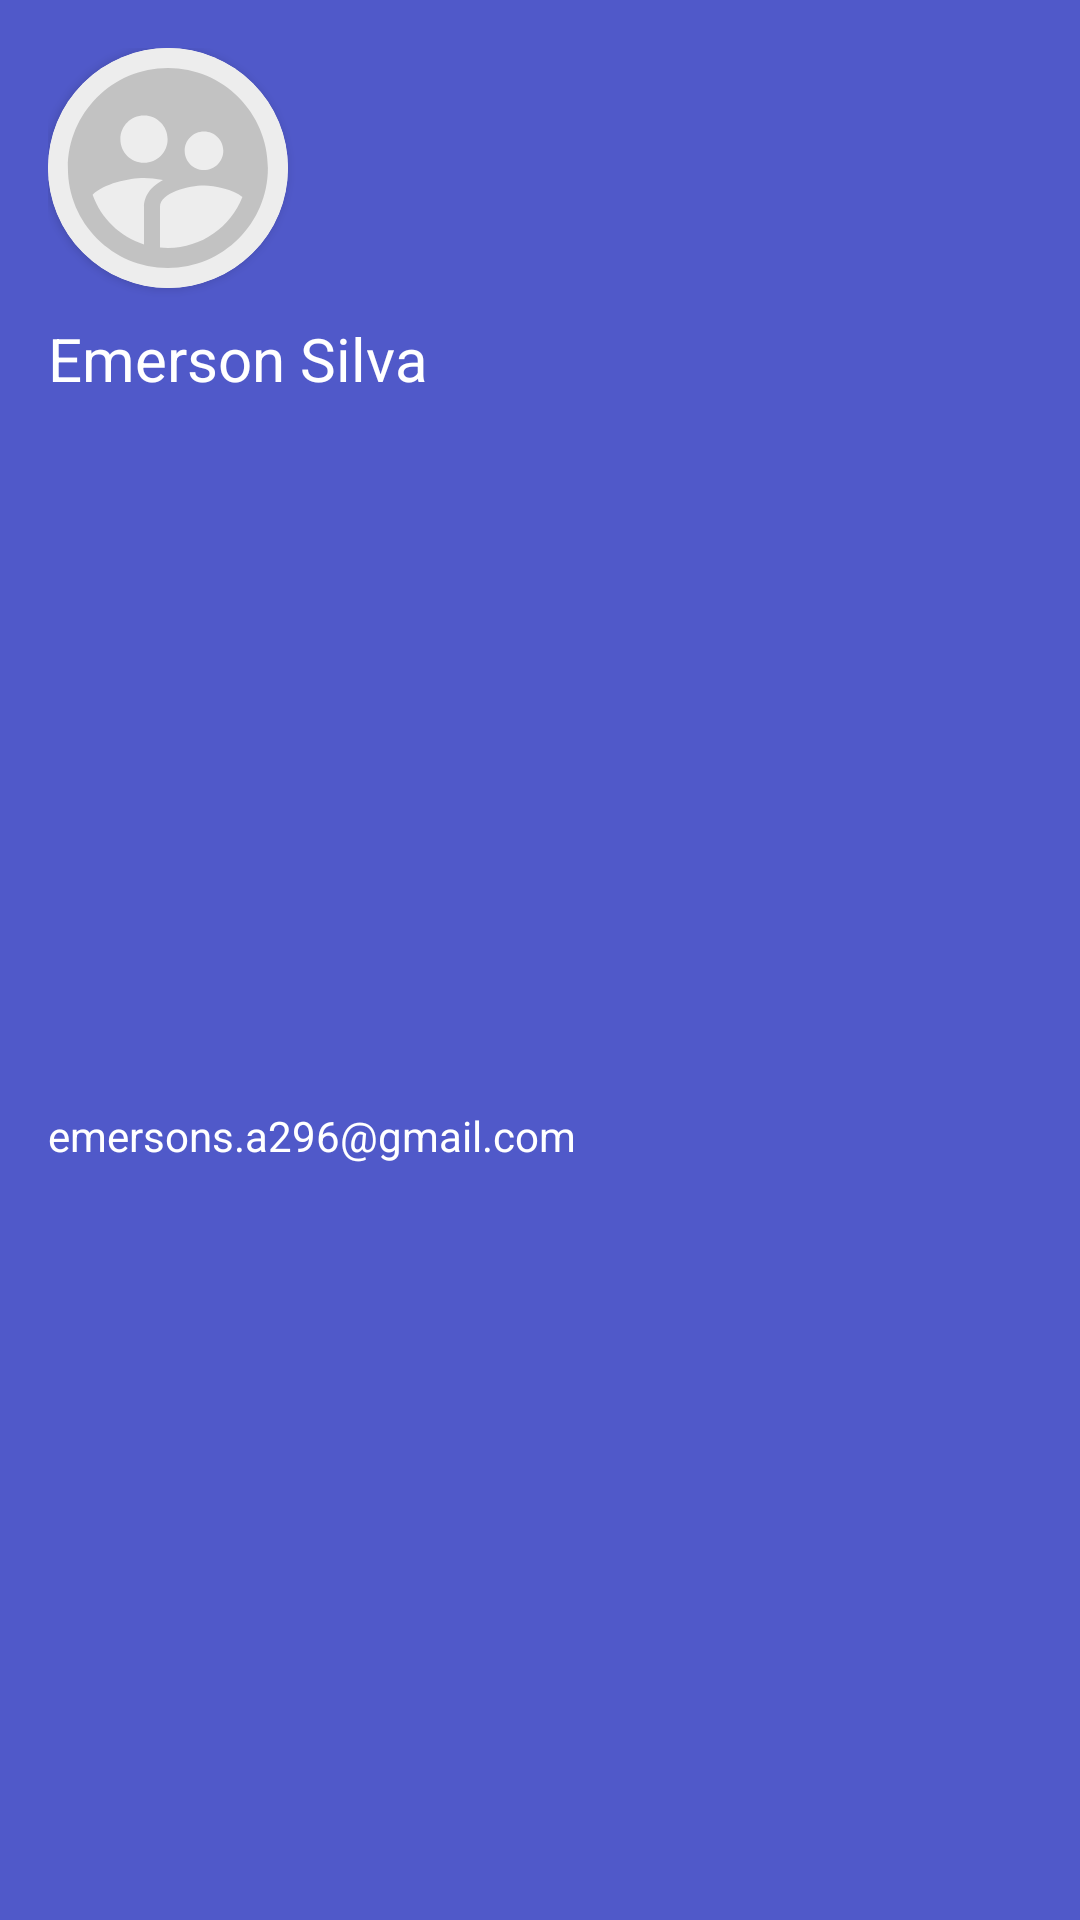

Icons on this 1080px x 1920px Android screen, each with its box as [left=x1, top=y1, right=x2, bottom=y2]:
user perfil: [left=48, top=48, right=288, bottom=288]
